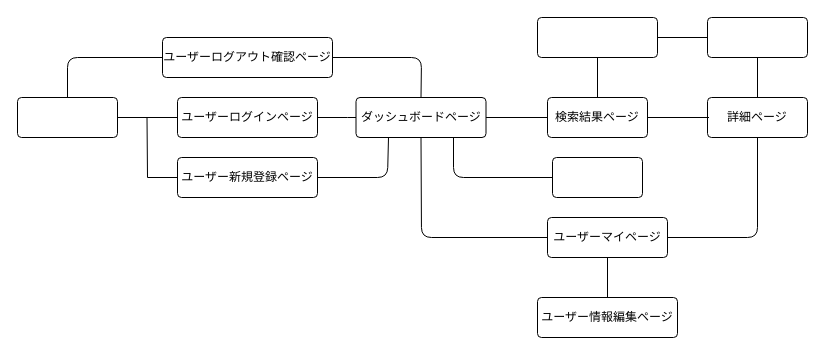
Some shapes in this 825 by 355 pixel diagram are drawn without their labels. Here are the shapes that lost their labels. From the top down, the centre of each, then its label:
At pixel 597 37: "投稿削除確認ページ".
At pixel 757 37: "投稿編集ページ".
At pixel 67 117: "TOPページ".
At pixel 597 177: "投稿ページ".
